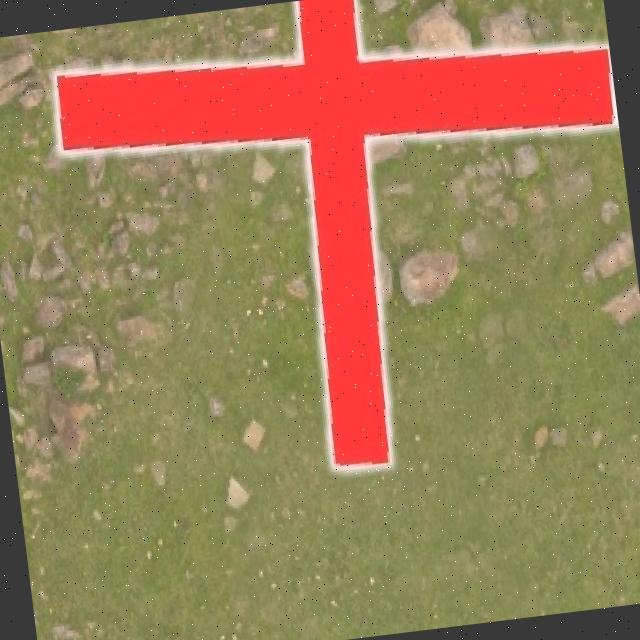x_marker: (45, 0, 640, 494)
